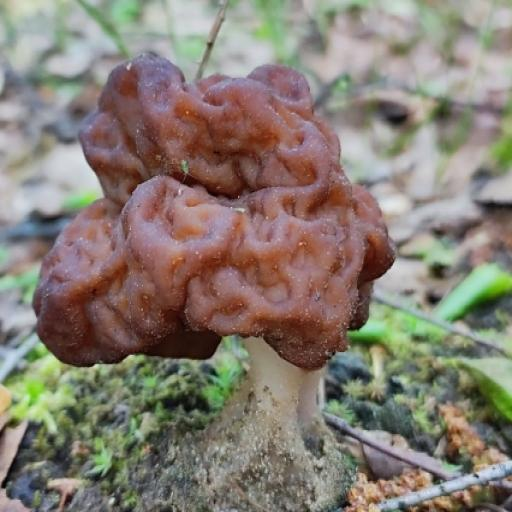mushroom: (30, 46, 401, 380)
